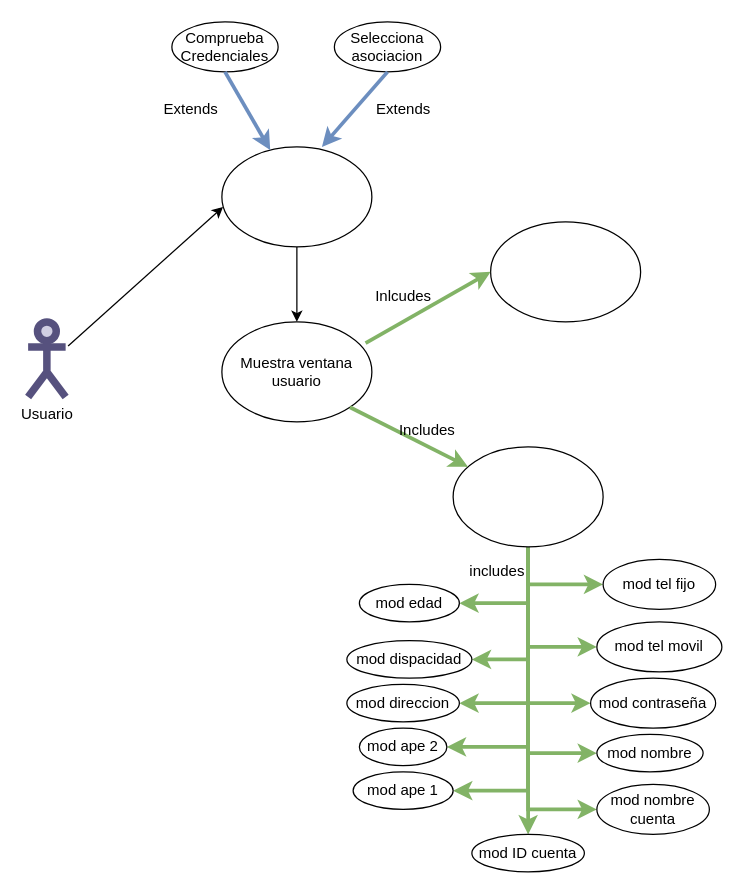
Image size: 744x894. Some labels were removed from this diagram. The centre of each missing label's shape, as x and y in pixels:
Login: (x=296, y=196)
Muestra ventana modificacion datos: (x=527, y=496)
Solicitar acompañamiento: (x=565, y=271)
